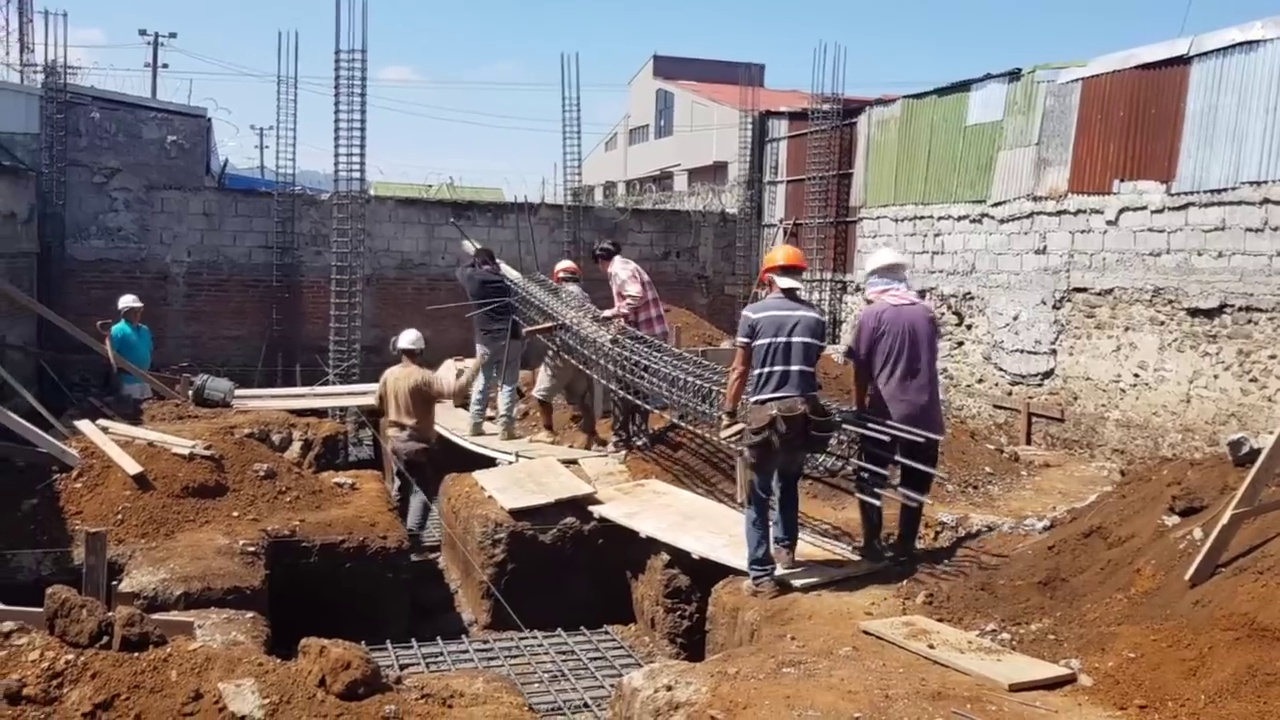helmet: (760, 240, 811, 282), (860, 249, 919, 282), (552, 257, 583, 284), (396, 331, 426, 350), (113, 298, 145, 315)
helmet-off: (589, 238, 622, 272), (465, 242, 499, 272)
helmet-on: (859, 247, 918, 306), (761, 242, 810, 300), (552, 257, 586, 289), (113, 298, 146, 329), (396, 331, 425, 365)
person: (730, 237, 832, 595), (834, 254, 942, 586), (370, 325, 468, 551), (590, 238, 670, 463), (458, 244, 530, 441), (530, 255, 593, 447), (101, 294, 152, 404)
